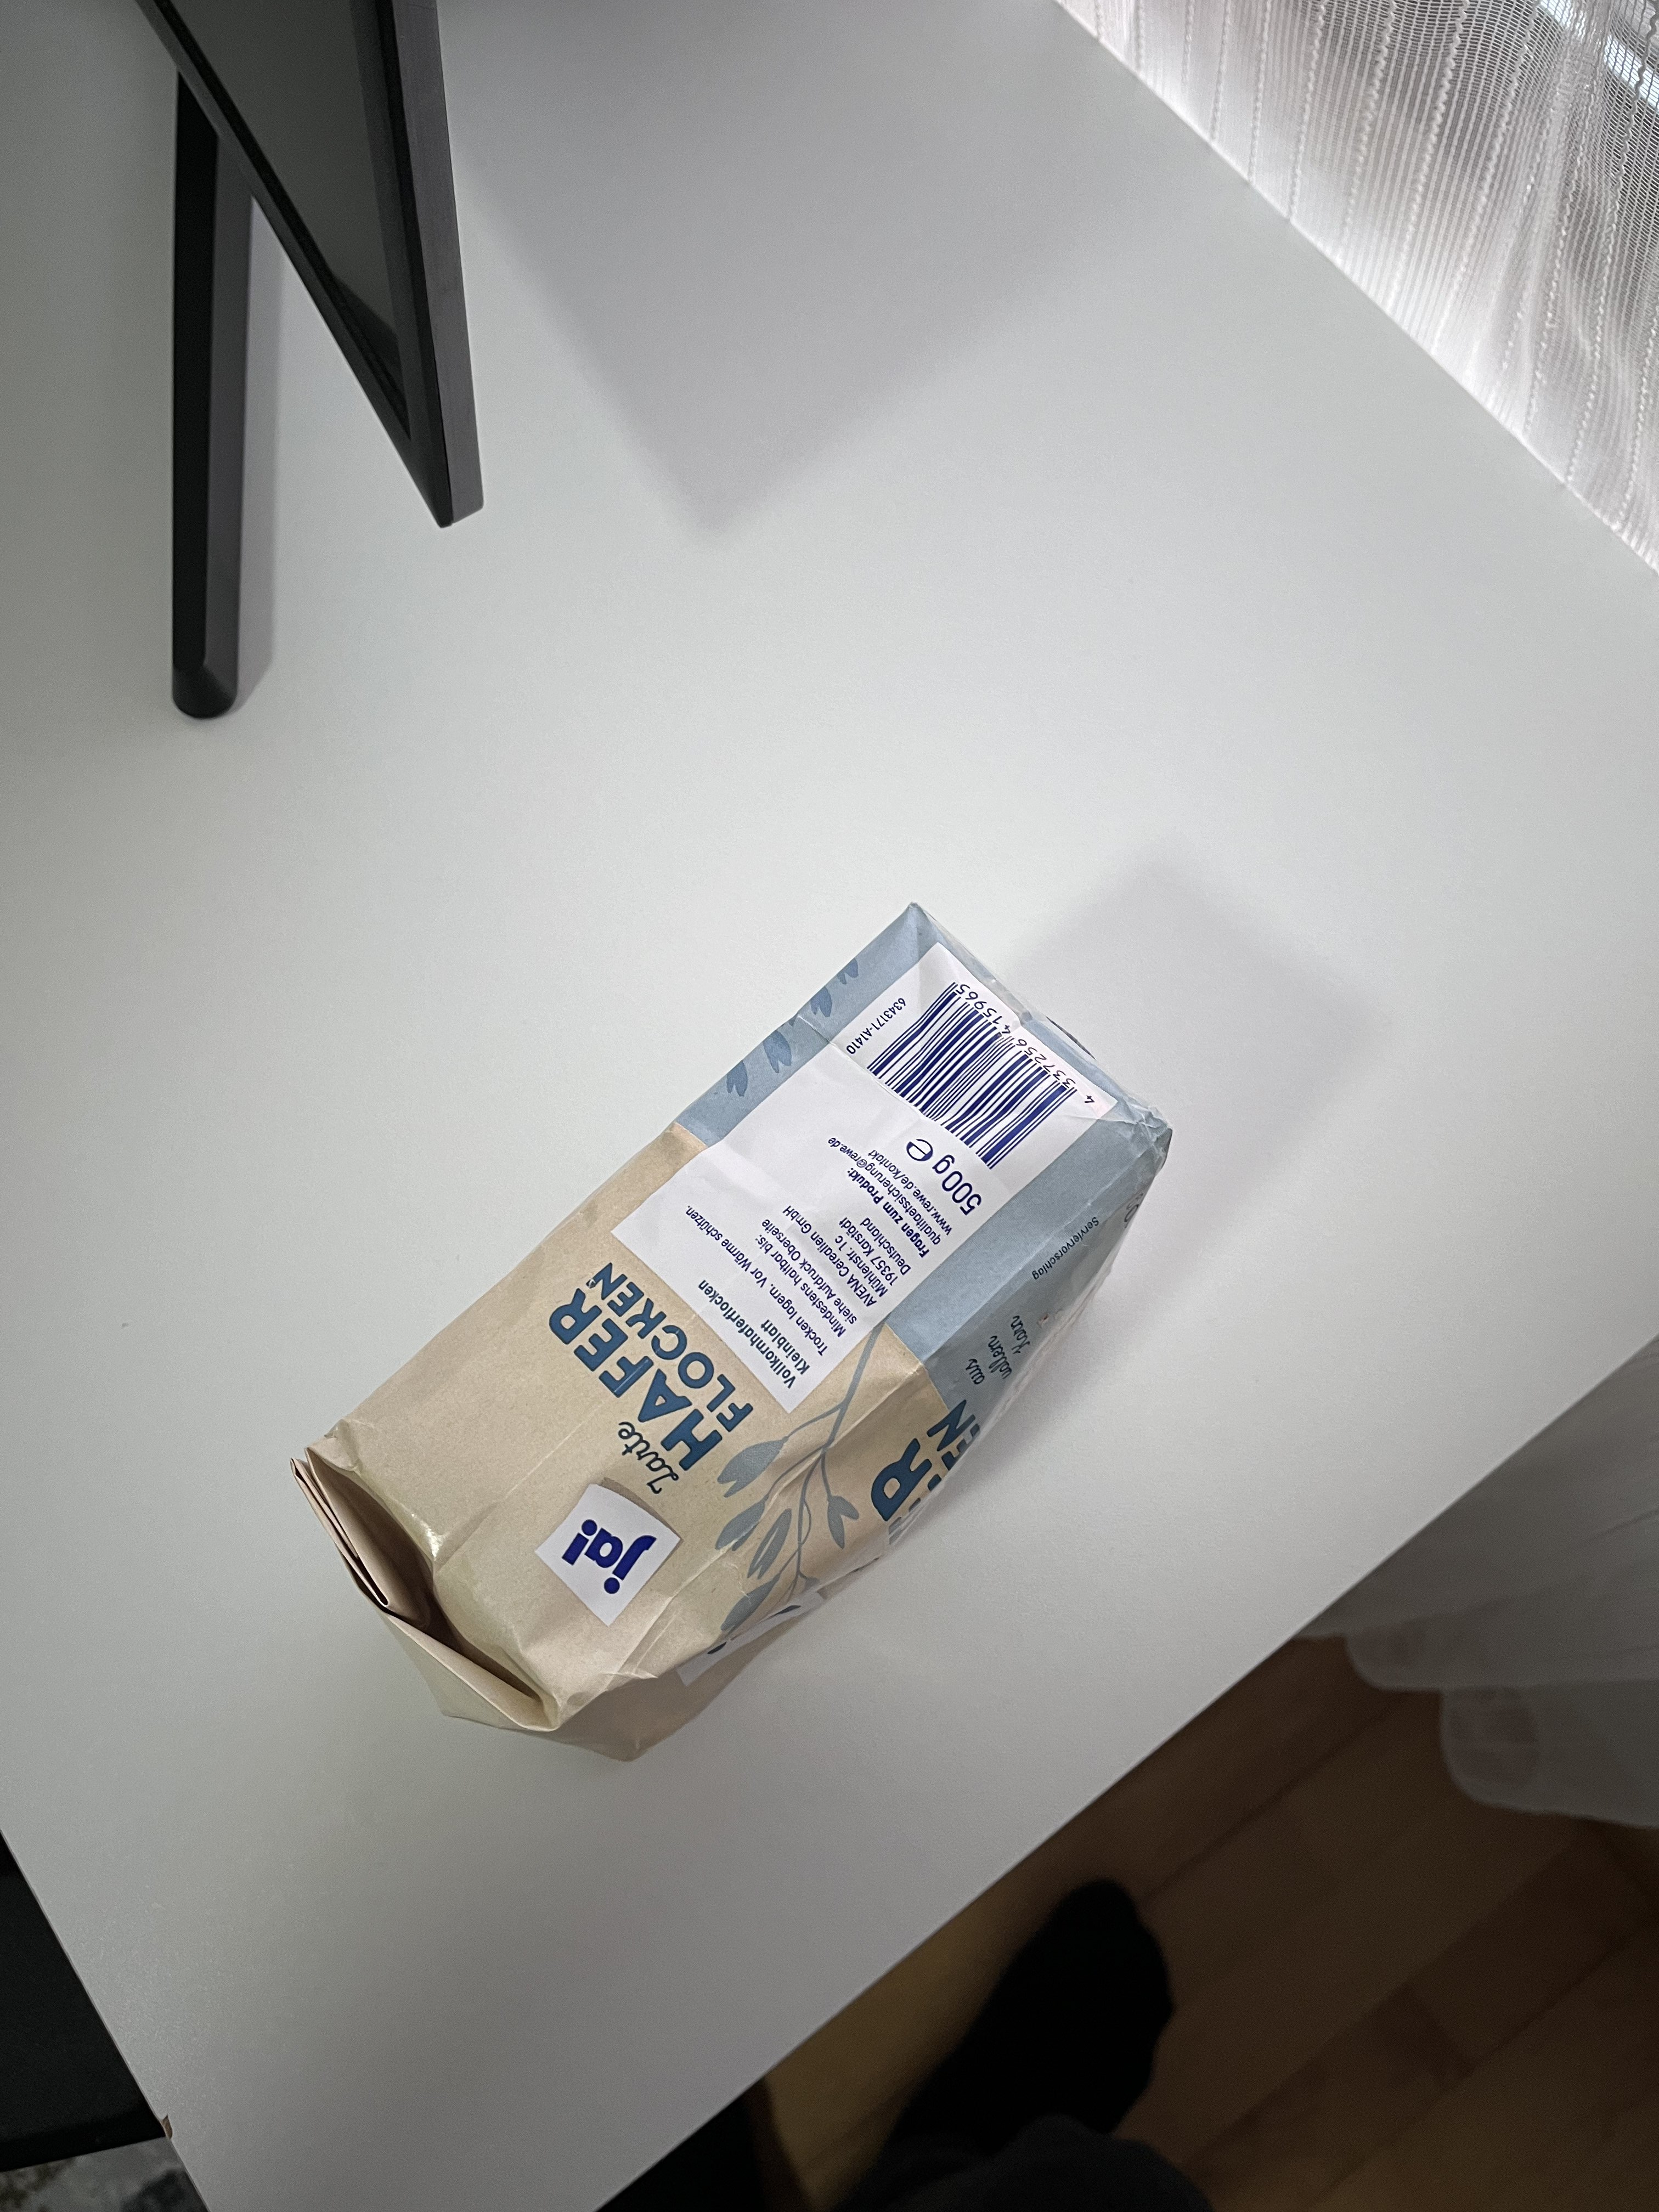haferflocken_ja: (289, 902, 1176, 1763)
